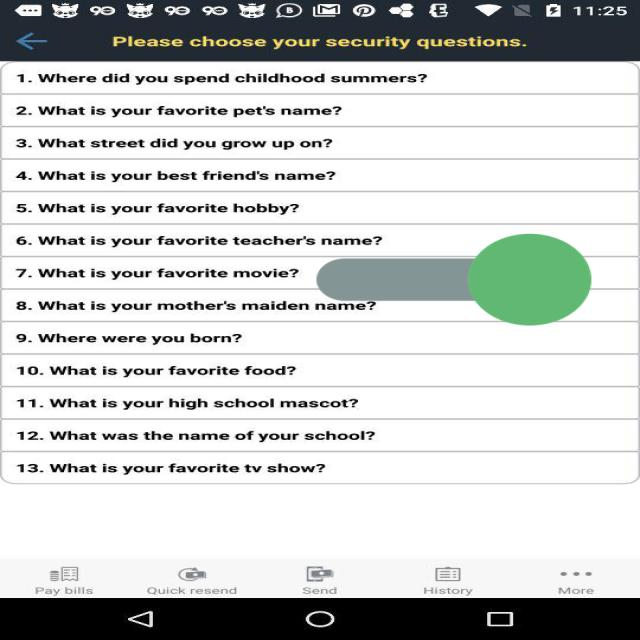social proof: (316, 177, 592, 382)
